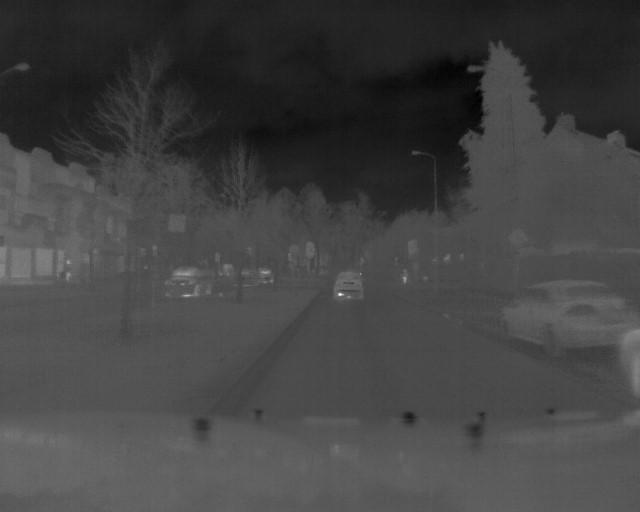car: (495, 277, 639, 362), (161, 264, 216, 301), (333, 270, 364, 300)
